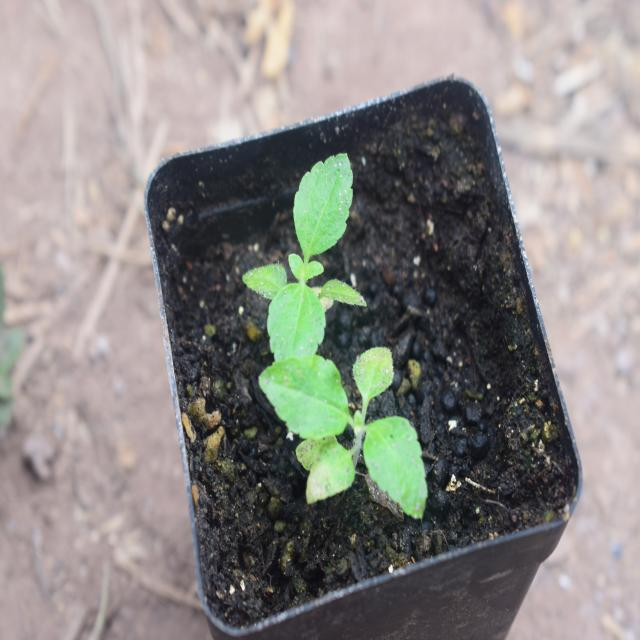billygoat_weed: (263, 338, 430, 524), (238, 160, 368, 352)
